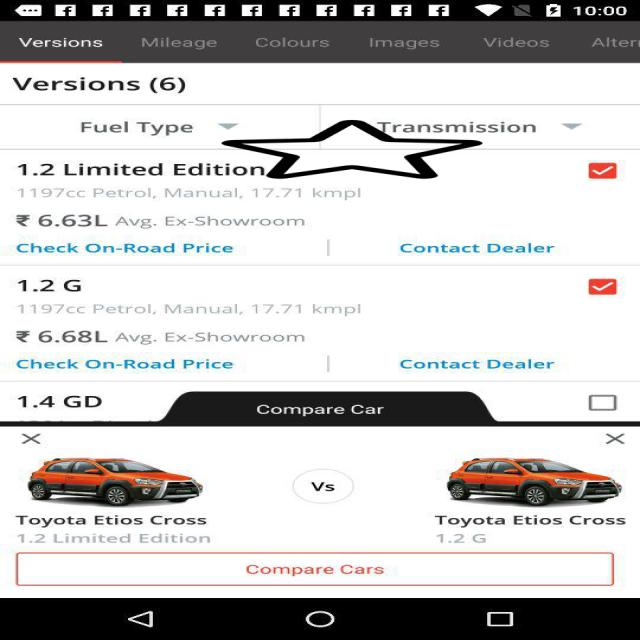forced continuity: (222, 119, 482, 180)
